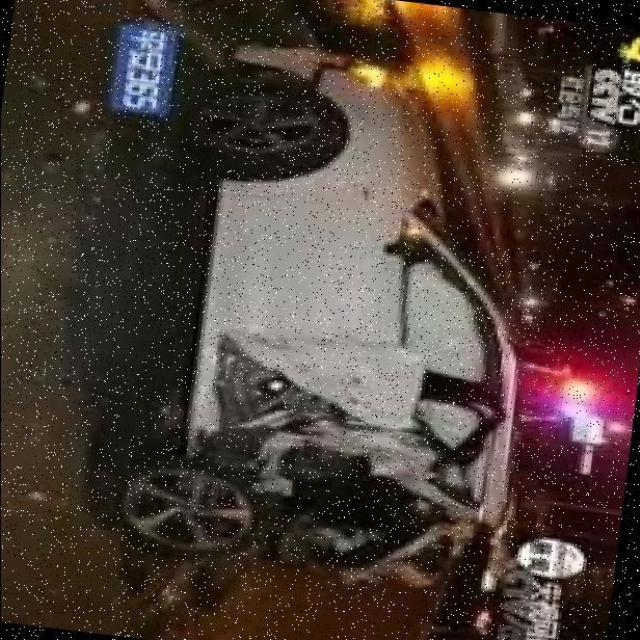accident: (75, 297, 545, 640)
